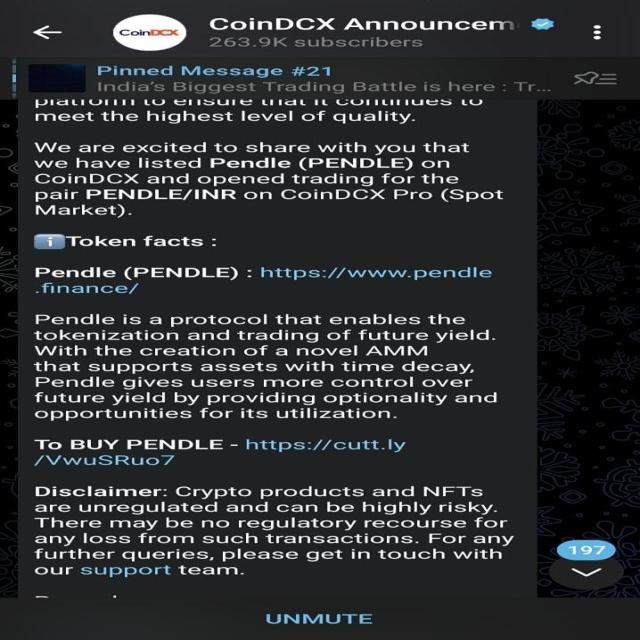Drawer: (551, 539, 624, 590), (571, 70, 620, 86), (30, 24, 66, 40), (591, 24, 604, 42)
EditText: (111, 13, 188, 51), (27, 65, 87, 93), (33, 233, 66, 250), (530, 17, 556, 31)
Icon: (260, 266, 495, 280), (244, 438, 409, 453), (31, 454, 177, 466), (35, 282, 141, 294), (81, 565, 173, 577)
Image: (265, 613, 376, 625)
Modal: (33, 313, 500, 405), (31, 485, 518, 562), (33, 141, 505, 202), (97, 80, 553, 93), (34, 406, 400, 421), (34, 110, 418, 122), (208, 17, 517, 31), (36, 99, 483, 107), (32, 438, 240, 452), (96, 65, 334, 77), (36, 267, 254, 280), (208, 37, 424, 48), (66, 234, 219, 248), (33, 203, 134, 217), (178, 566, 246, 576), (31, 566, 75, 576)
